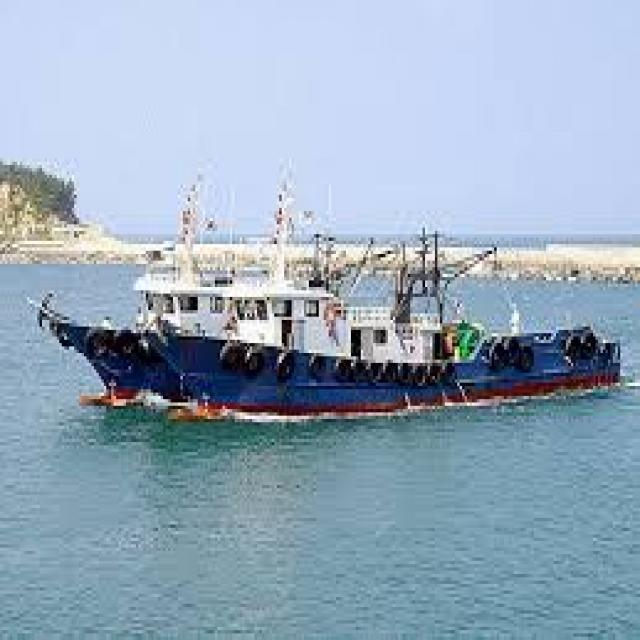Ship: (147, 212, 640, 423)
